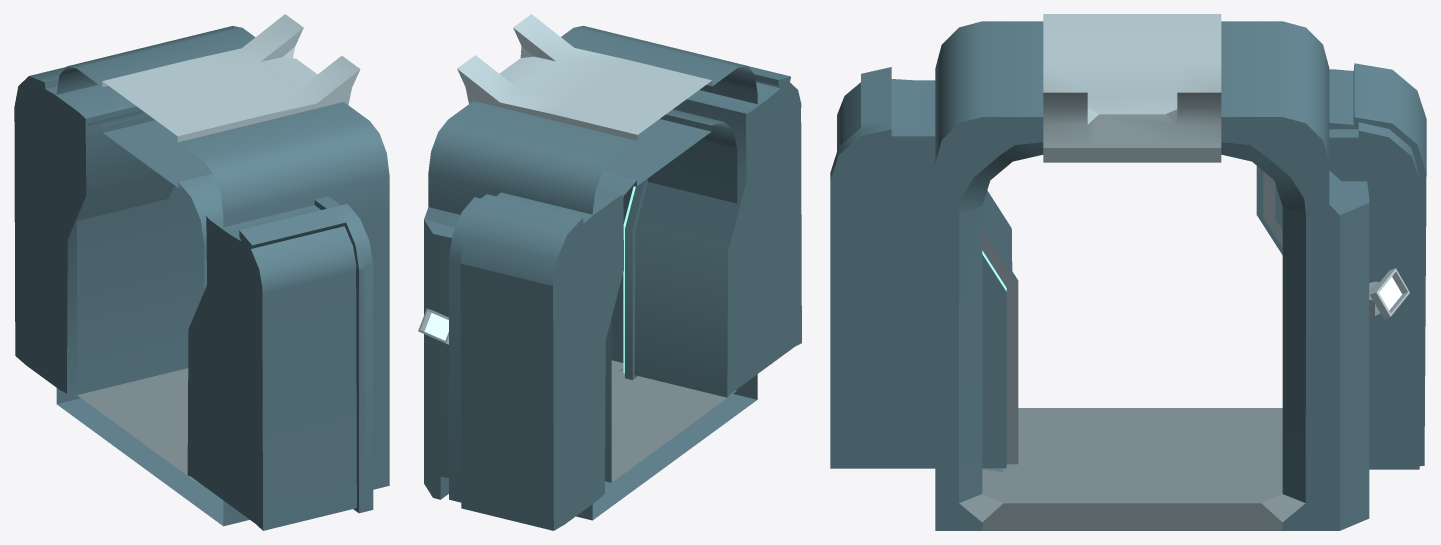
File: m_DoorLonger.fbx
The picture shows the model from 3 angles, left to right: view 1: azimuth 30°, elevation 25°; view 2: azimuth 150°, elevation 25°; view 3: azimuth 270°, elevation 25°; orthographic projection. The views are drawn at different scales.
Visible parts, largest first — view 1: Doorframe, DoorLeft, DoorRight; view 2: Doorframe, DoorRight, DoorLeft; view 3: Doorframe, DoorLeft, DoorRight.
Boxes of the visible parts, bbox=[...] form: Doorframe: bbox=[56, 14, 389, 526]; DoorLeft: bbox=[187, 196, 373, 530]; DoorRight: bbox=[14, 67, 175, 393]; Doorframe: bbox=[418, 14, 757, 520]; DoorRight: bbox=[449, 188, 623, 530]; DoorLeft: bbox=[623, 66, 801, 397]; Doorframe: bbox=[935, 14, 1409, 530]; DoorLeft: bbox=[830, 67, 1018, 468]; DoorRight: bbox=[1256, 63, 1426, 469].
Bounding box in the file's own units: 238 × 464 × 560.
